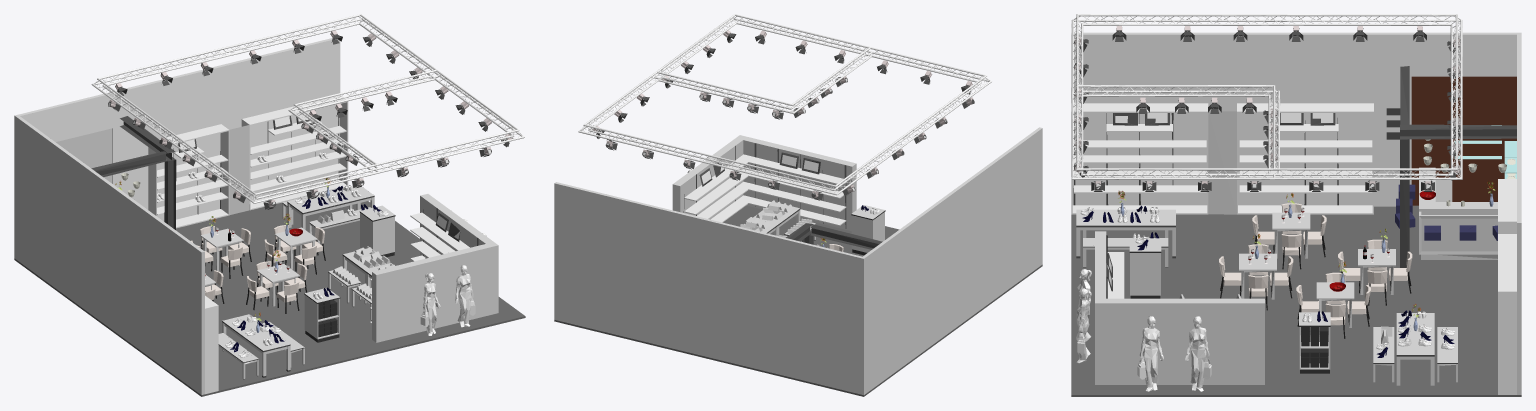
Rendered from stand.glb.
3 views of the same model, side by side, from view 1: azimuth 30°, elevation 25°; view 2: azimuth 150°, elevation 25°; view 3: azimuth 270°, elevation 25° (orthographic). The views are drawn at different scales.
Parts seen in each view (by area): view 1: G-Object.122, G-Difference1, G-Object, C-chair_half, G-Object.321, _C-Light_200w_HMI_Barndoors (Loose Mesh), _G-Object.779 (Loose Mesh), G-Object.147, C-lFoot; view 2: G-Object.122, G-Difference1, G-Object, _C-Light_200w_HMI_Barndoors (Loose Mesh), G-Object.321, _G-Object.779 (Loose Mesh); view 3: G-Difference1, G-Object, G-Object.122, G-Object.320, C-chair_half, G-Object.321, _C-Light_200w_HMI_Barndoors (Loose Mesh), G-Object.147, _G-Object.779 (Loose Mesh), G-Object.002, C-lFoot, G-Object.317 (+1 smaller).
Part boxes in pixels (left/top/right/bottom): G-Object.122: left=14, top=37, right=498, bottom=394; G-Difference1: left=20, top=14, right=524, bottom=394; G-Object: left=14, top=201, right=525, bottom=396; C-chair_half: left=191, top=225, right=325, bottom=313; G-Object.321: left=91, top=110, right=478, bottom=379; _C-Light_200w_HMI_Barndoors (Loose Mesh): left=108, top=35, right=509, bottom=209; _G-Object.779 (Loose Mesh): left=109, top=30, right=512, bottom=206; G-Object.147: left=304, top=211, right=395, bottom=342; C-lFoot: left=228, top=186, right=380, bottom=352; G-Object.122: left=554, top=78, right=1042, bottom=395; G-Difference1: left=578, top=14, right=992, bottom=225; G-Object: left=554, top=205, right=1042, bottom=396; _C-Light_200w_HMI_Barndoors (Loose Mesh): left=594, top=33, right=974, bottom=200; G-Object.321: left=683, top=143, right=882, bottom=249; _G-Object.779 (Loose Mesh): left=592, top=30, right=972, bottom=197; G-Difference1: left=1071, top=14, right=1516, bottom=394; G-Object: left=1071, top=205, right=1521, bottom=396; G-Object.122: left=1071, top=32, right=1521, bottom=394; G-Object.320: left=1411, top=76, right=1516, bottom=205; C-chair_half: left=1219, top=203, right=1412, bottom=338; G-Object.321: left=1073, top=66, right=1516, bottom=363; _C-Light_200w_HMI_Barndoors (Loose Mesh): left=1074, top=28, right=1460, bottom=191; G-Object.147: left=1129, top=251, right=1330, bottom=373; _G-Object.779 (Loose Mesh): left=1074, top=25, right=1460, bottom=184; G-Object.002: left=1395, top=184, right=1497, bottom=240; C-lFoot: left=1082, top=205, right=1454, bottom=357; G-Object.317: left=1454, top=125, right=1516, bottom=178.
Bounding box in the file's own units: 9.5 × 5.26 × 9.5.
